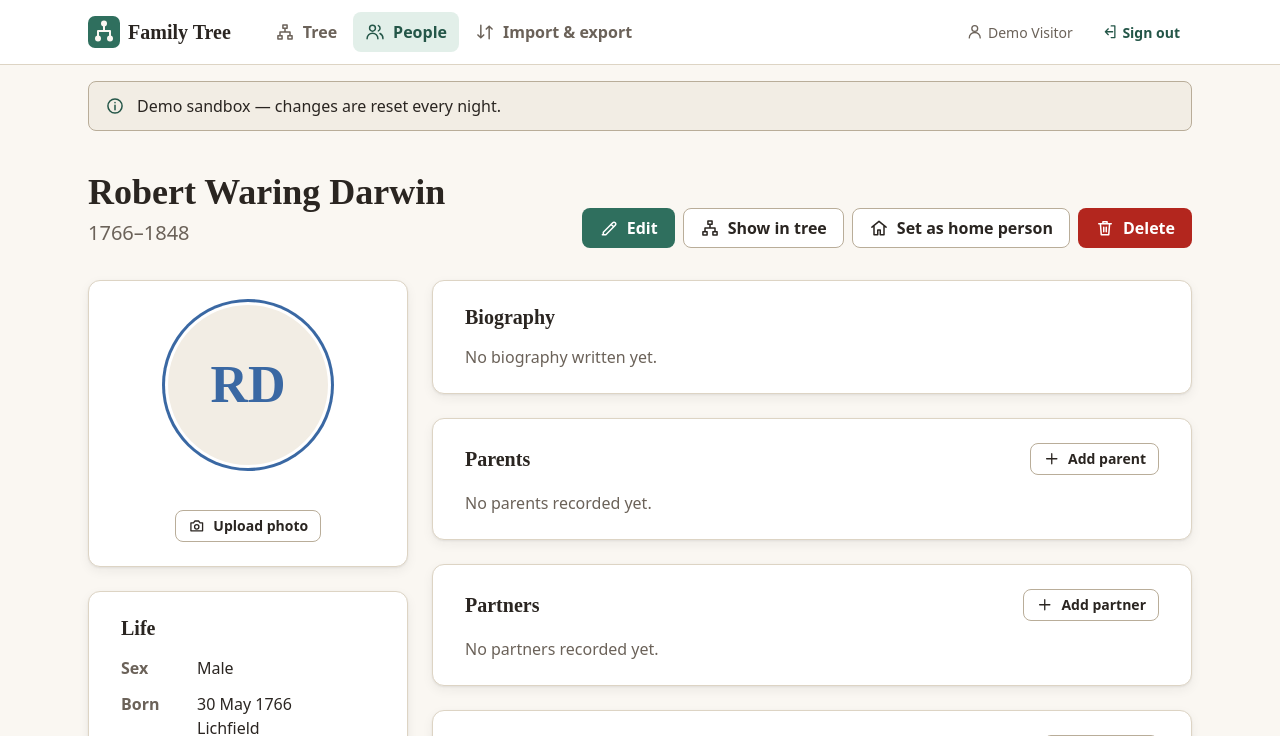
adding a partner records the kind and the start of the partnership
The width and height of the screenshot is (1280, 736).
Expected: the element "Partners" shows "No partners recorded yet.", [465, 638, 659, 660]
Click the button "Add partner" at (1091, 605), box [1023, 589, 1159, 621]
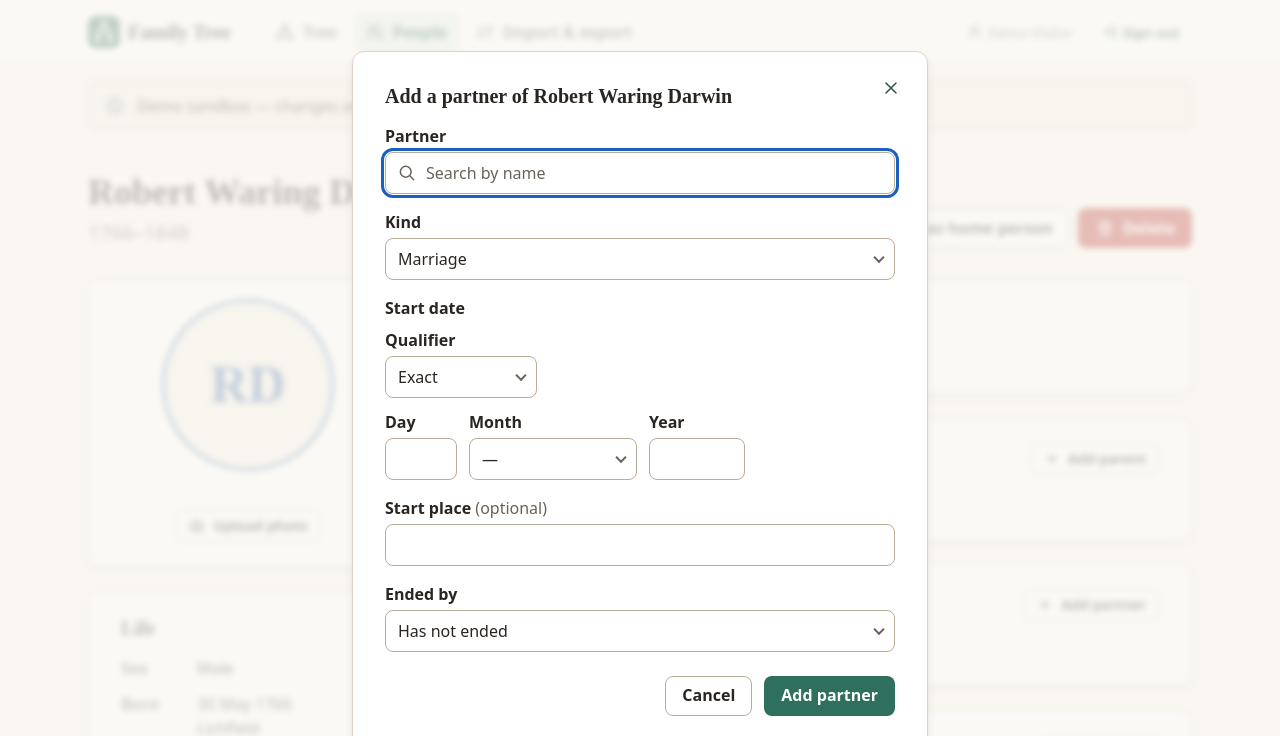
Type "susannah" into the dropdown labelled "Partner" at (640, 173), box [385, 152, 895, 194]
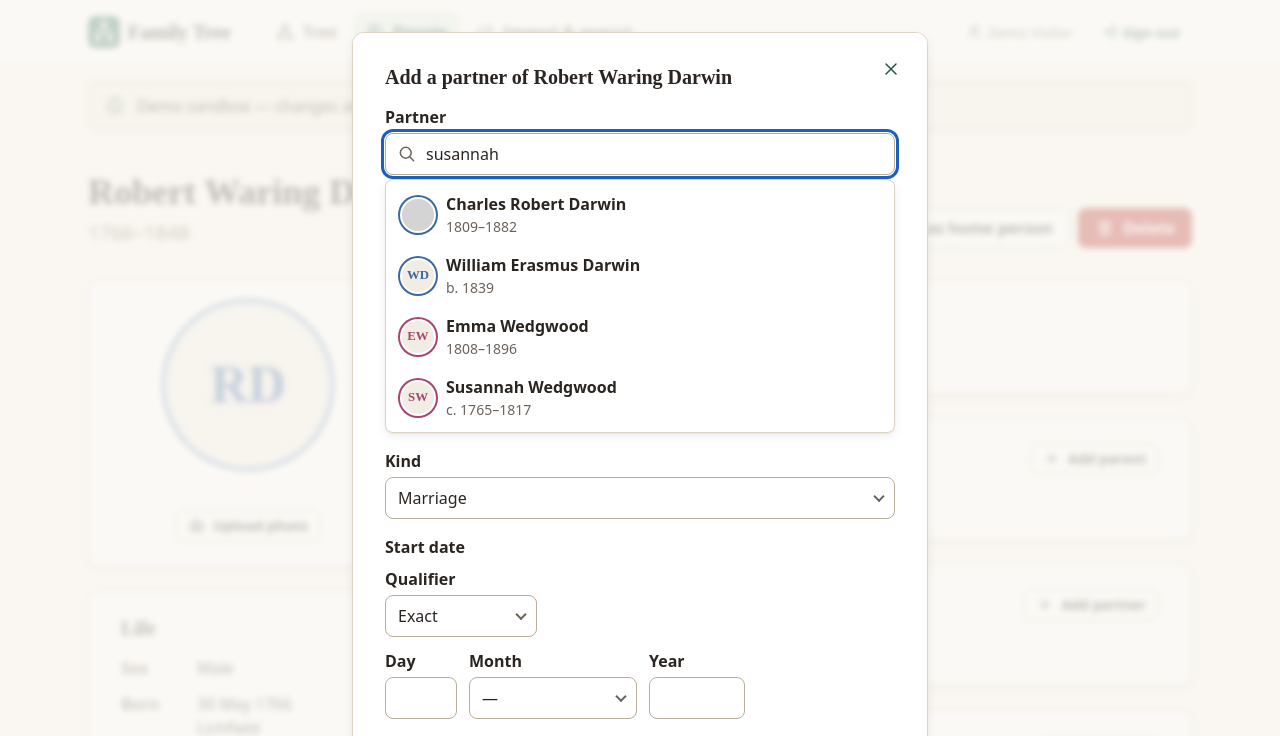
Click the option "SW Susannah Wedgwood c. 1765–1817" at (509, 398), box [402, 376, 617, 419]
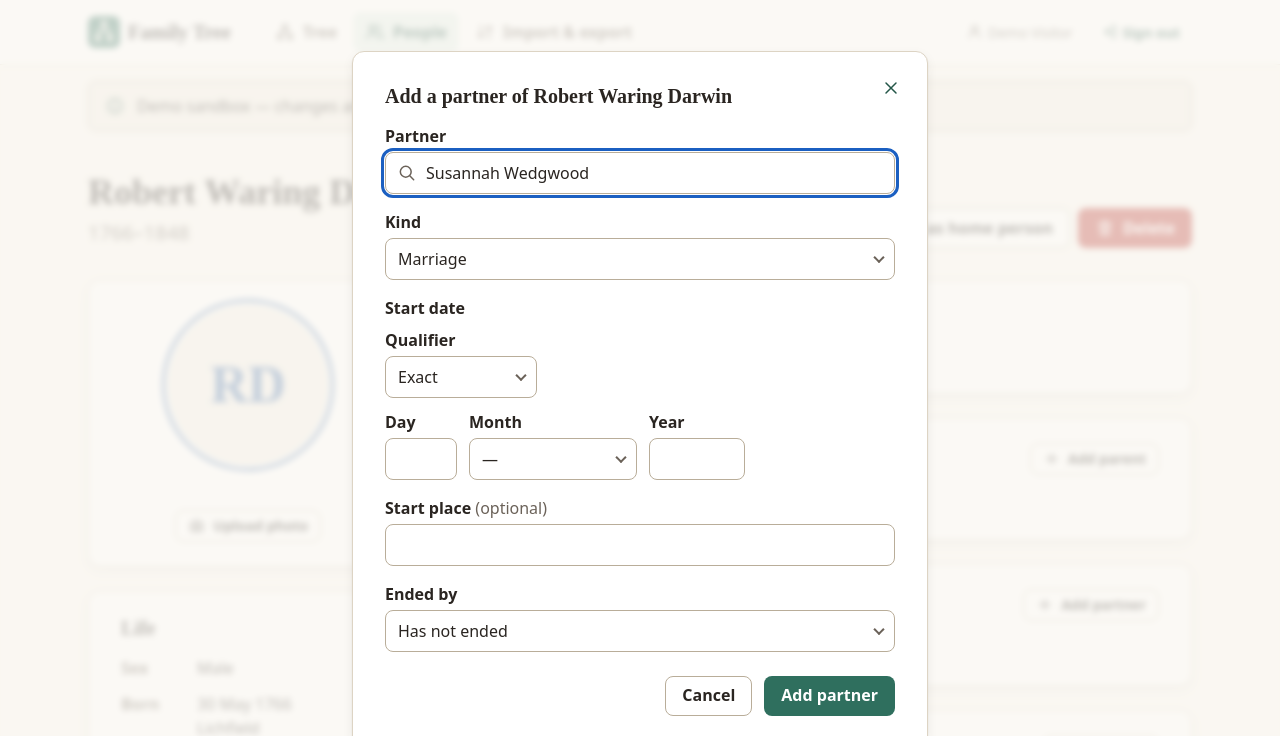
Type "1796" into the field labelled "Year" at (697, 459), box [649, 438, 745, 480]
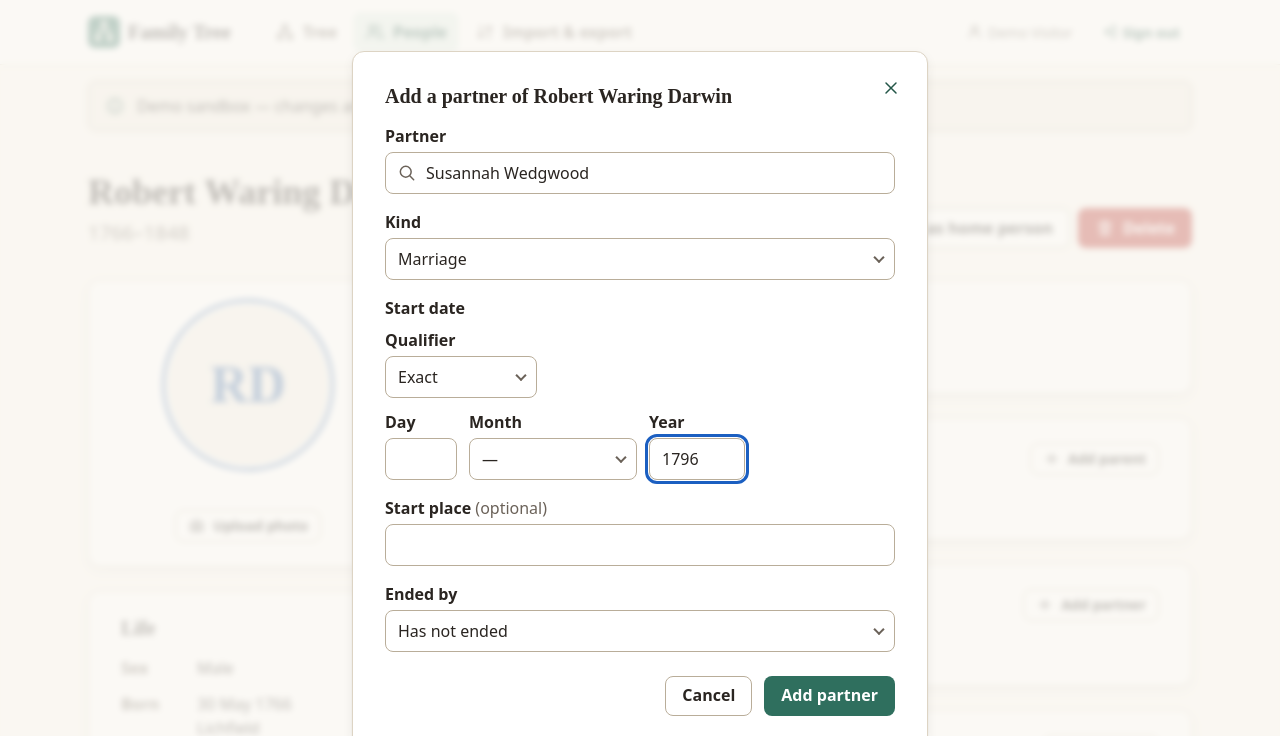
Type "Marylebone" into the field labelled "Start place (optional)" at (640, 545), box [385, 524, 895, 566]
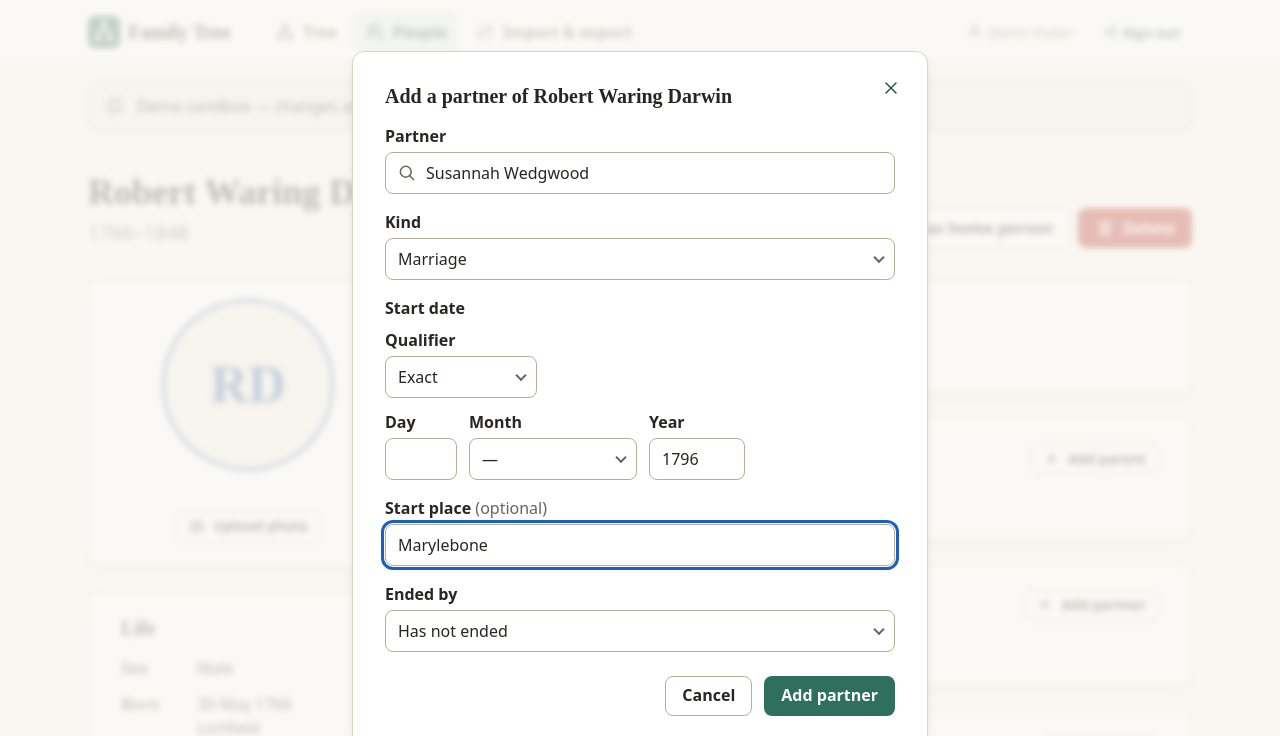
Click the button "Add partner" at (830, 696), box [764, 676, 895, 716]
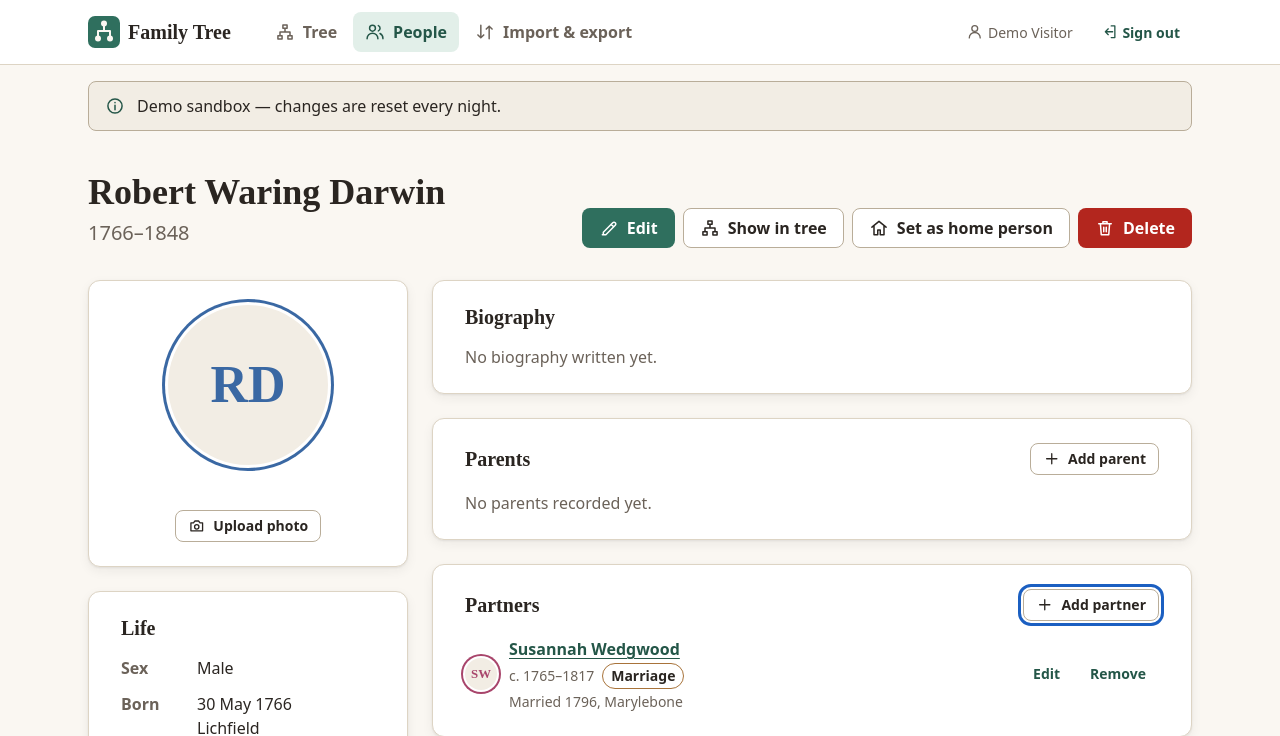
Now the text "Married 1796, Marylebone" is shown, box [509, 692, 683, 711]
